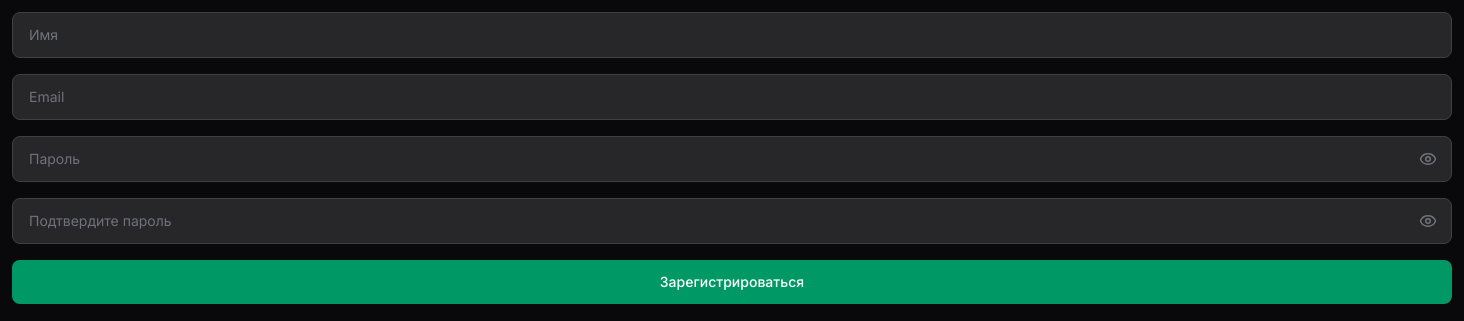
RegisterForm › toggles password fields independently without clearing values
Type "password123" into the password field with placeholder "Пароль" at (732, 159), box [12,136,1452,182]
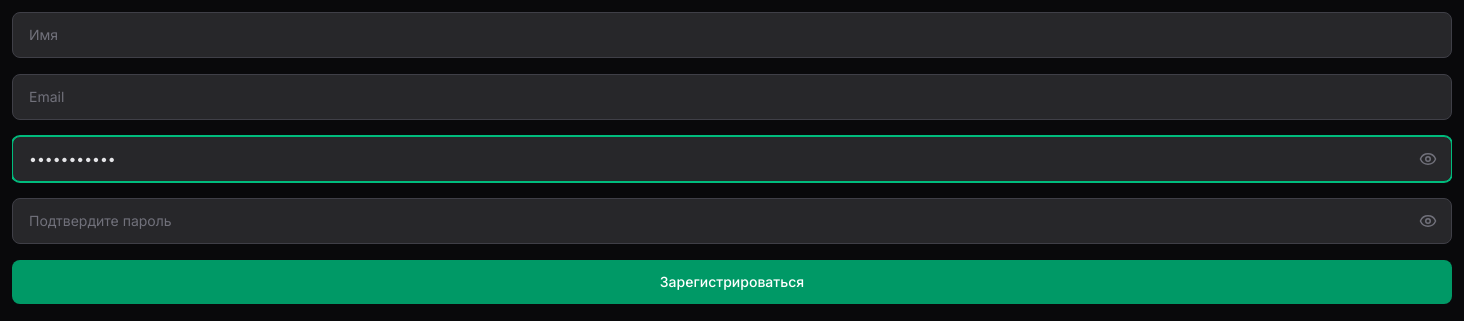
Type "password124" into the password field with placeholder "Подтвердите пароль" at (732, 221), box [12,198,1452,244]
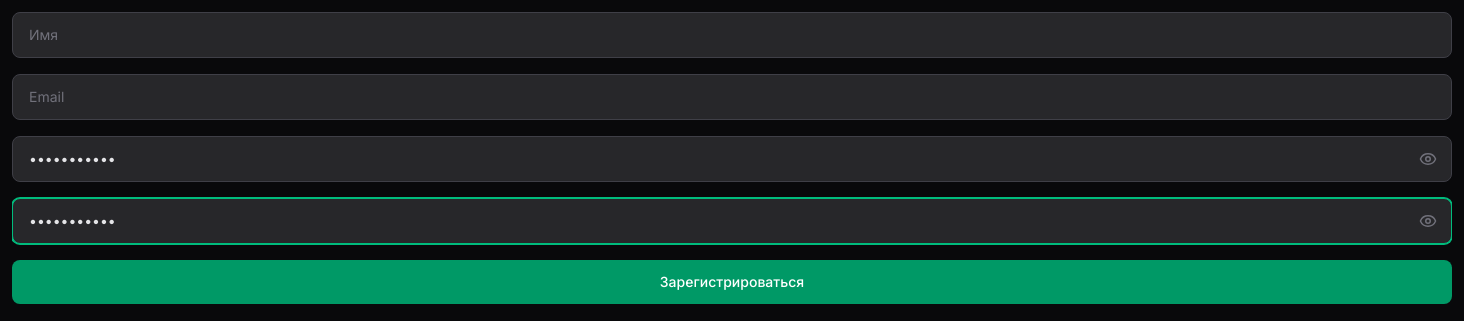
Click the button named "Показать пароль" at (1428, 159), box [1404,136,1452,182]
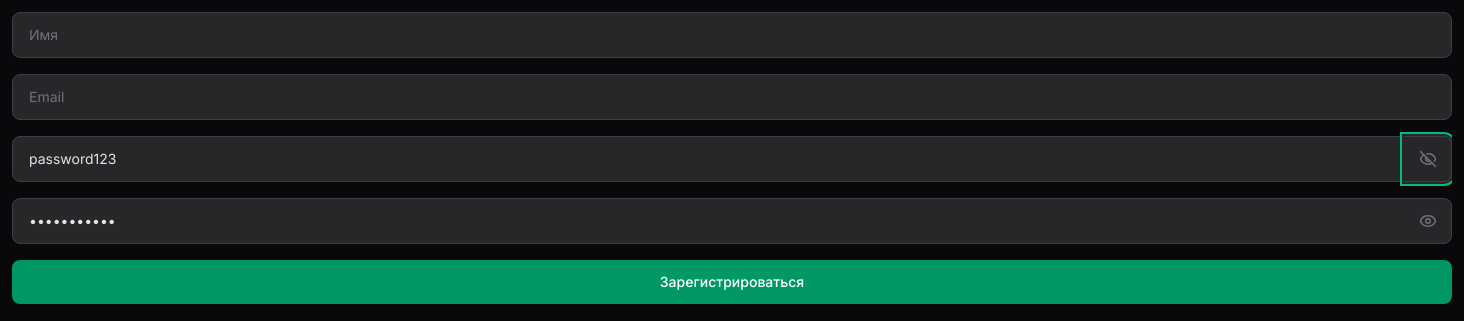
Check: the field with placeholder "Пароль" shows its text, box [12,136,1452,182]
Click the button named "Показать подтверждение пароля" at (1428, 221), box [1404,198,1452,244]
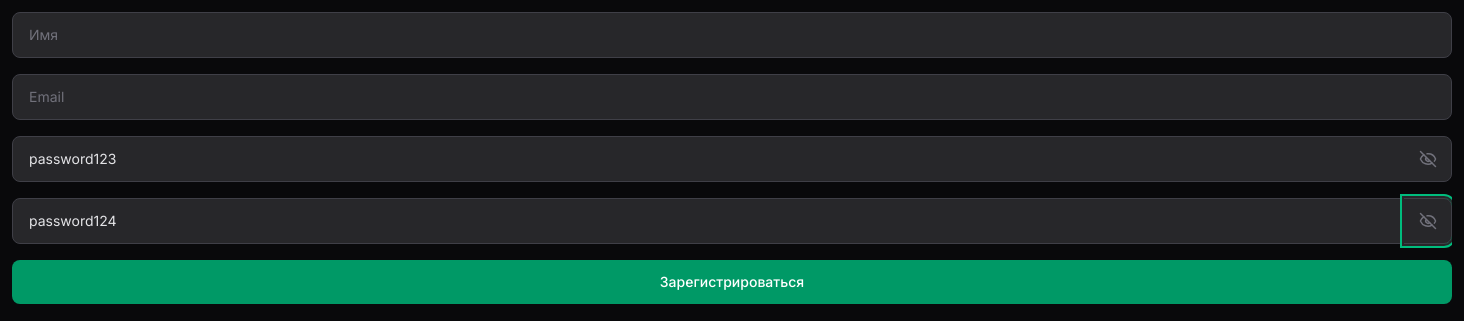
Check: the 1st field with placeholder "Пароль" shows its text, box [12,136,1452,182]
Check: the 2nd field with placeholder "Подтвердите пароль" shows its text, box [12,198,1452,244]
Click the button named "Скрыть пароль" at (1428, 159), box [1404,136,1452,182]
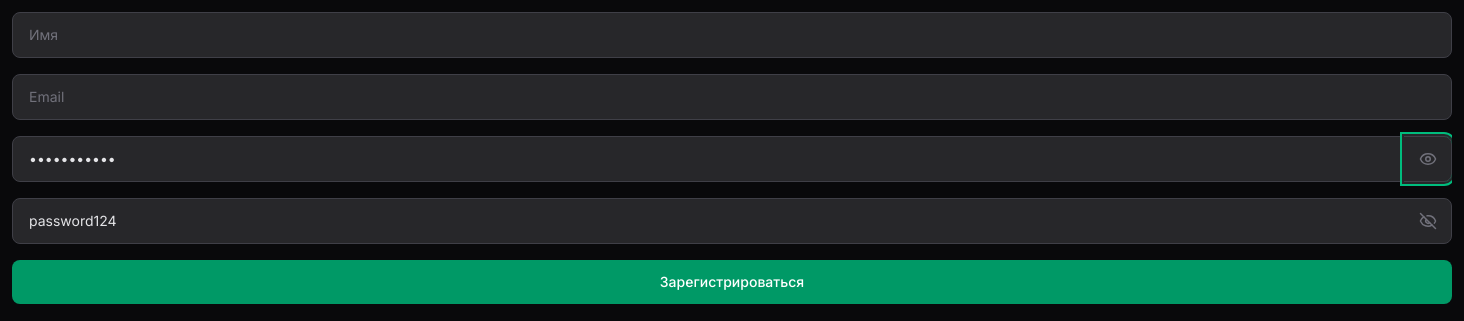
Click the button named "Скрыть подтверждение пароля" at (1428, 221), box [1404,198,1452,244]
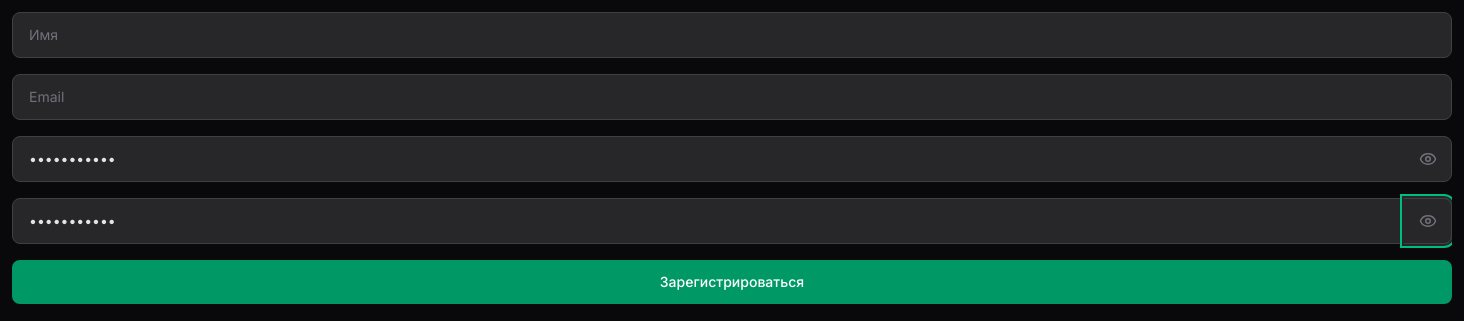
Check: the 1st password field with placeholder "Пароль" hides its text, box [12,136,1452,182]
Check: the 2nd password field with placeholder "Подтвердите пароль" hides its text, box [12,198,1452,244]
